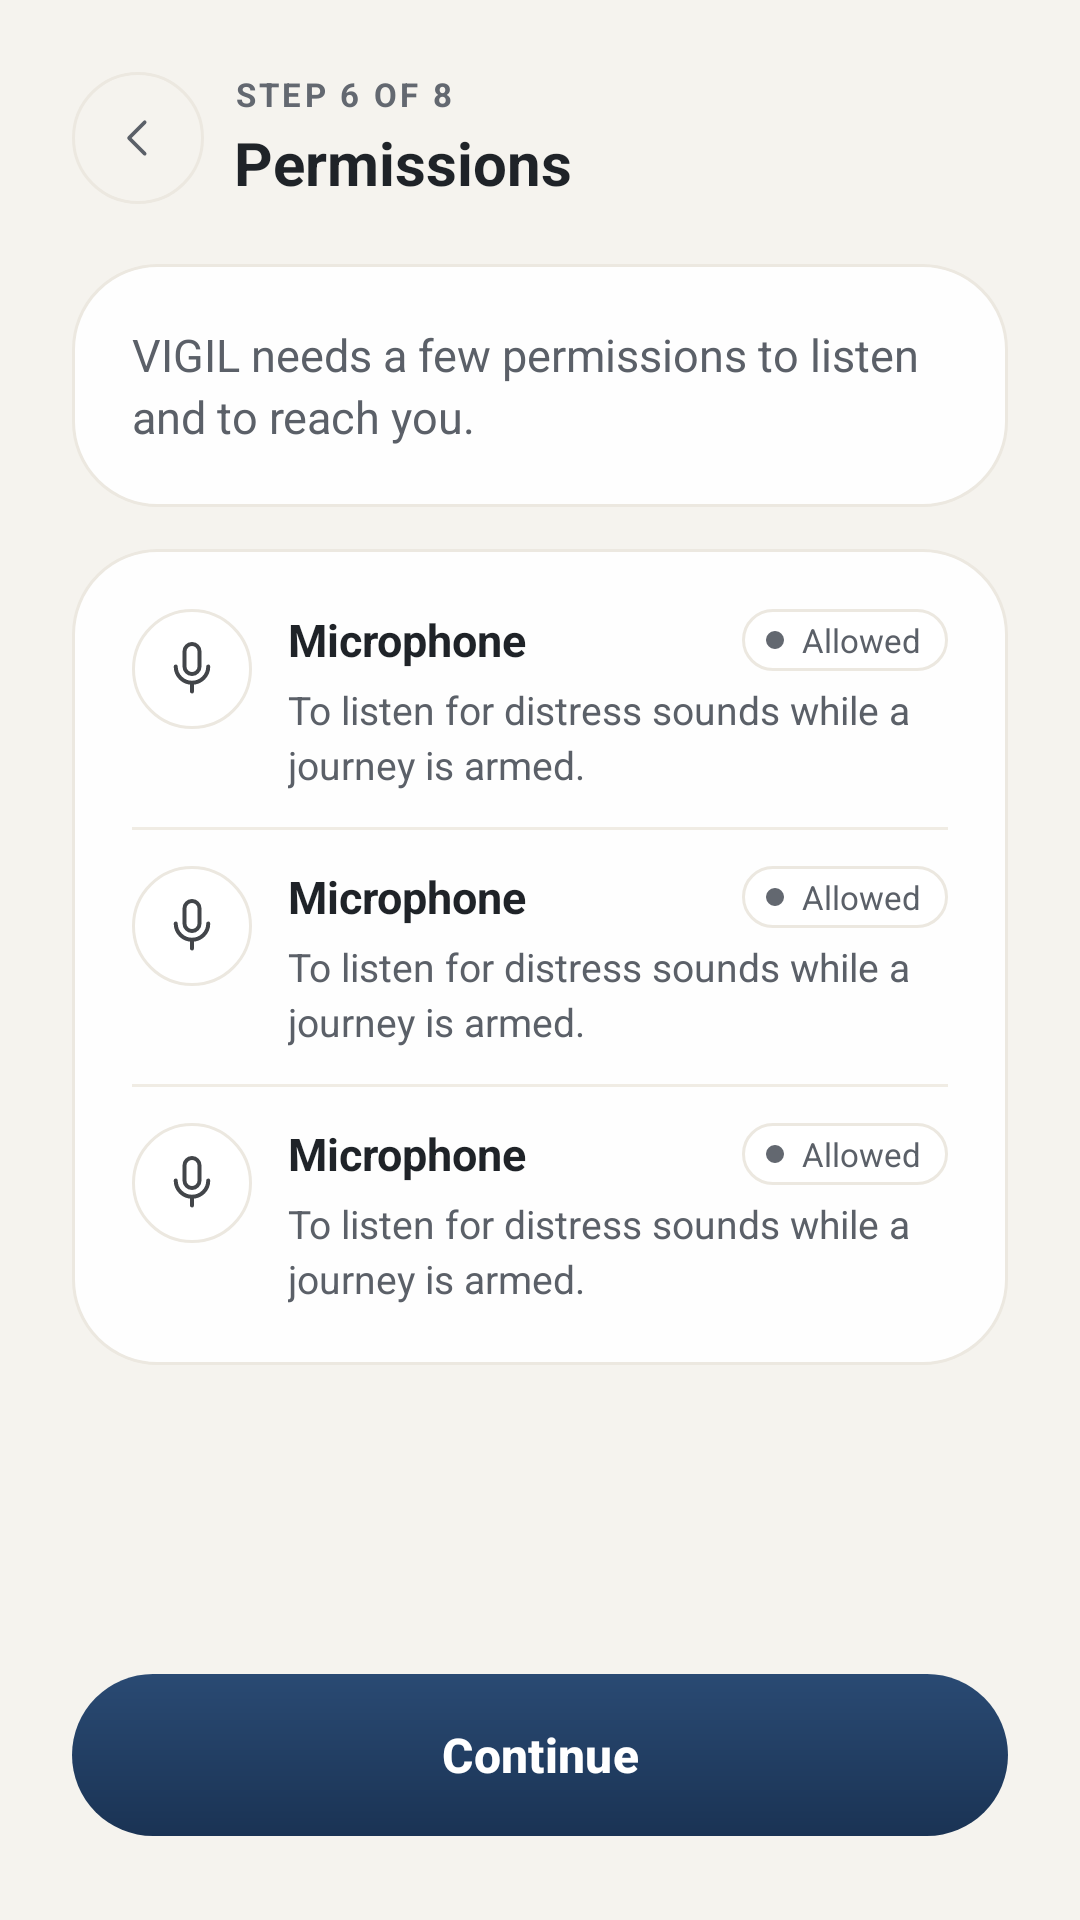

Point at icon controls on the screen. Image size 1080×1920, points as [x,y].
Back: [137,138]
